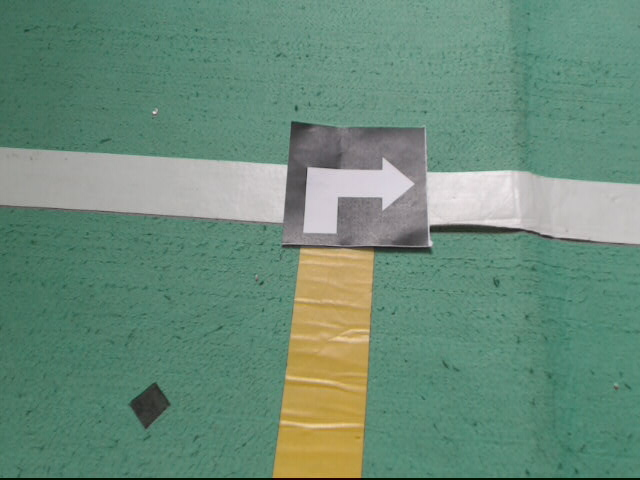right: (282, 120, 432, 246)
